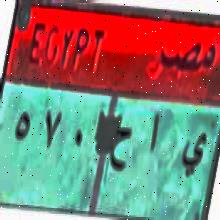0: (72, 124, 84, 155)
5: (14, 107, 32, 154)
7: (44, 102, 62, 160)
7aa: (110, 124, 132, 178)
alif: (147, 107, 163, 167)
yaa: (180, 131, 208, 188)
